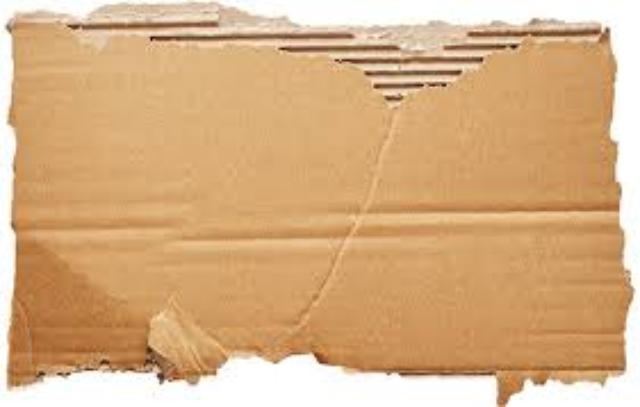cardboard paper: (7, 14, 624, 380)
